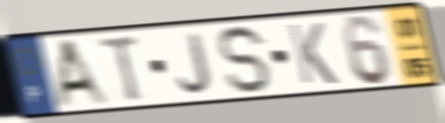6: (341, 12, 393, 88)
A: (54, 36, 115, 109)
J: (175, 30, 214, 97)
K: (285, 21, 341, 87)
S: (216, 23, 274, 97)
T: (97, 33, 146, 104)
